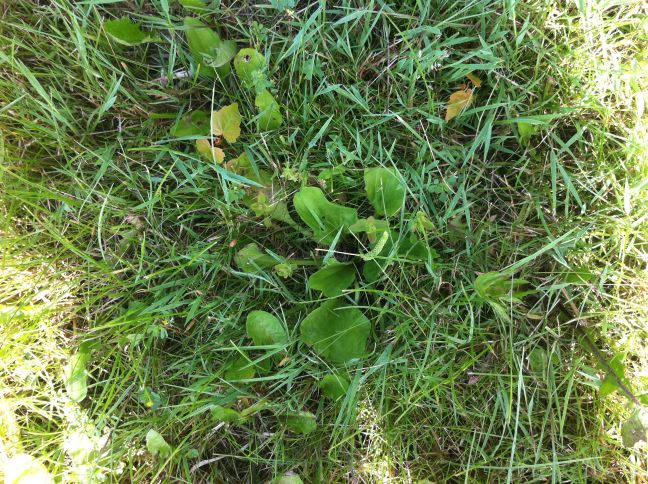weed1: (292, 161, 440, 307), (219, 300, 374, 411)
